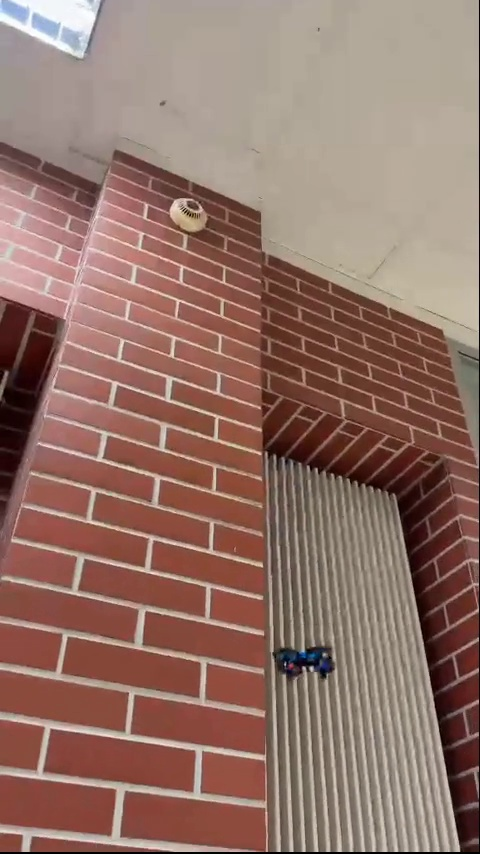drone: (270, 642, 330, 679)
